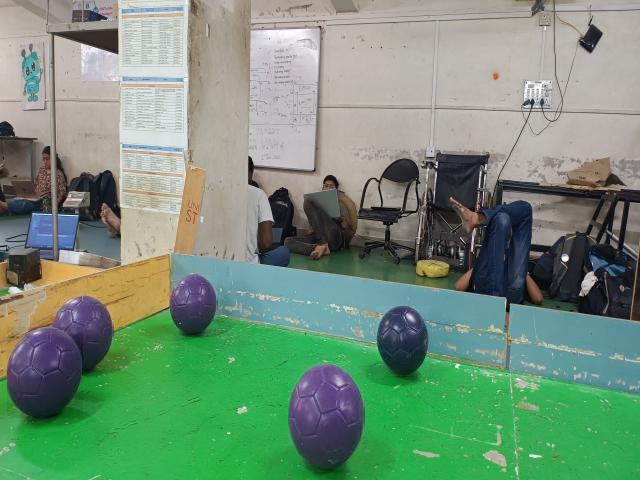jambhalya: (289, 364, 364, 470), (7, 327, 83, 418), (54, 295, 113, 370), (170, 275, 217, 335)
kaalyya: (376, 306, 429, 376)
